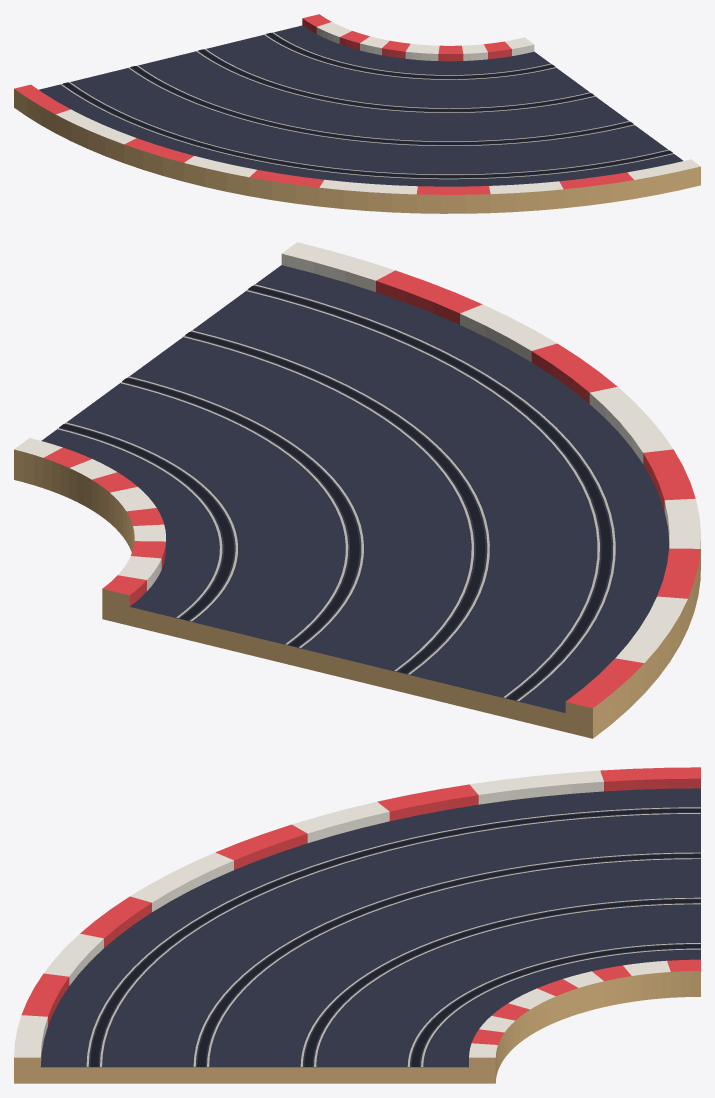
Rendered from Track_4L_Curve90Tight_L.fbx.
3 views of the same model, one above another, from view 1: azimuth 30°, elevation 25°; view 2: azimuth 150°, elevation 25°; view 3: azimuth 270°, elevation 25° (orthographic). The views are drawn at different scales.
Parts seen in each view (by area): view 1: Track_4L_Curve90Tight_L; view 2: Track_4L_Curve90Tight_L; view 3: Track_4L_Curve90Tight_L.
Boxes of the visible parts, x1=… form: Track_4L_Curve90Tight_L: x1=14, y1=14, x2=700, y2=213; Track_4L_Curve90Tight_L: x1=14, y1=242, x2=700, y2=738; Track_4L_Curve90Tight_L: x1=14, y1=767, x2=700, y2=1083.
Size of the model in its own units: 7.7 by 0.32 by 7.7.
